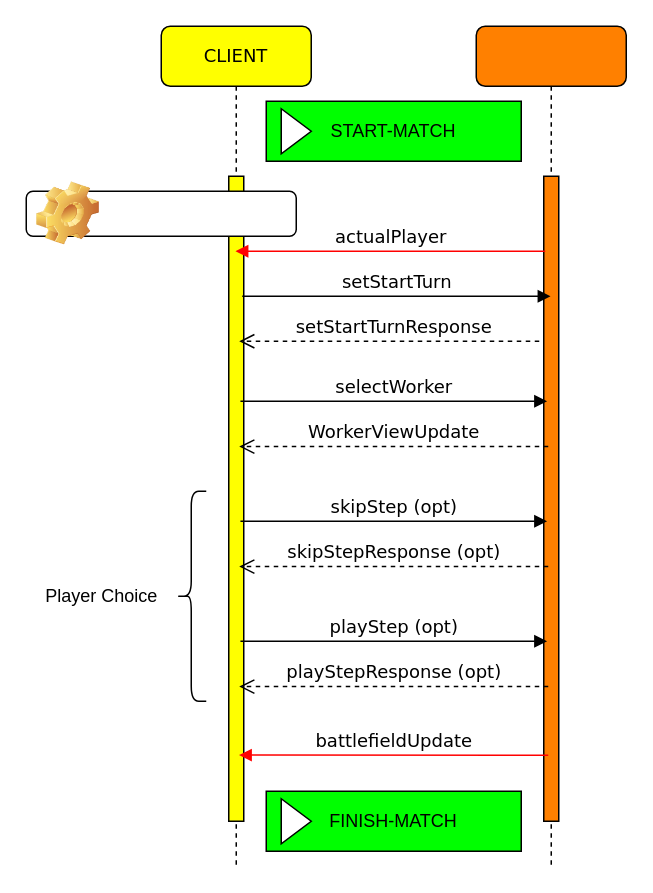
The diagram is 653 pixels wide and 893 high, and some of its shapes have lost their labels. Here are the shapes that lost their labels. From the top down, the centre of each, then its label:
At point 160,213: "waitActualPlayer".
At point 550,445: "SERVER".
